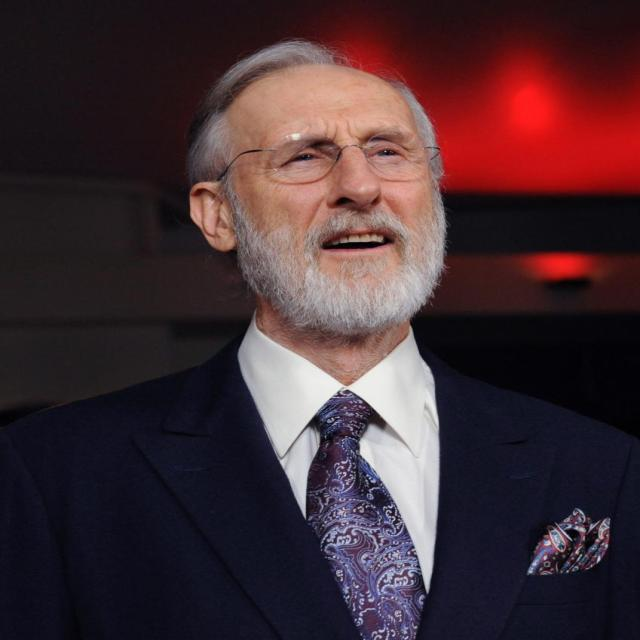no-earmuff: (187, 181, 236, 252)
